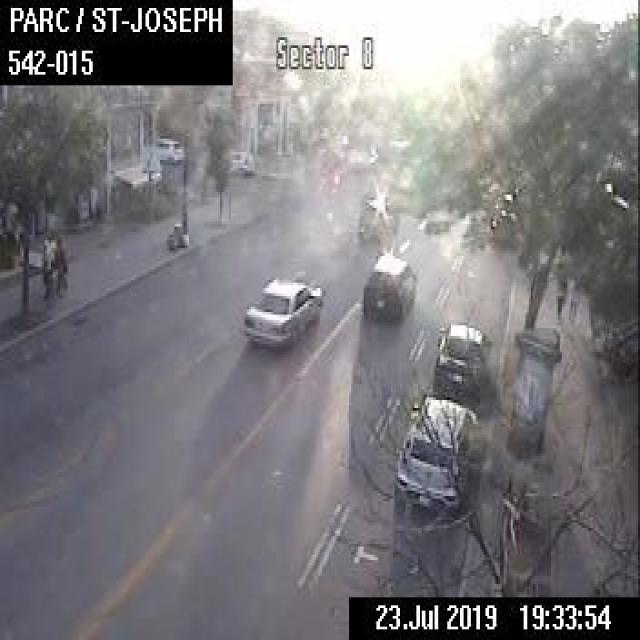pedestrian: (55, 235, 65, 296), (566, 272, 578, 322), (553, 270, 564, 323)
vehicle: (391, 394, 477, 512), (242, 272, 324, 347), (432, 321, 492, 403), (360, 251, 416, 317), (353, 190, 400, 238), (227, 147, 253, 173), (155, 133, 180, 160)
